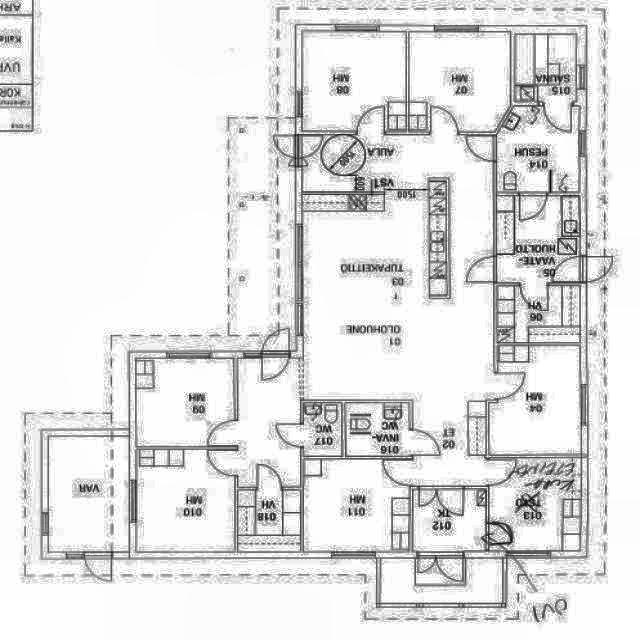room: (138, 450, 236, 552), (304, 459, 409, 552), (48, 437, 129, 552), (137, 358, 234, 445), (490, 458, 580, 549), (497, 196, 579, 281), (497, 107, 579, 191), (380, 558, 502, 603), (413, 490, 486, 551), (499, 286, 579, 341), (239, 491, 300, 551), (346, 403, 409, 456), (304, 403, 341, 455)
